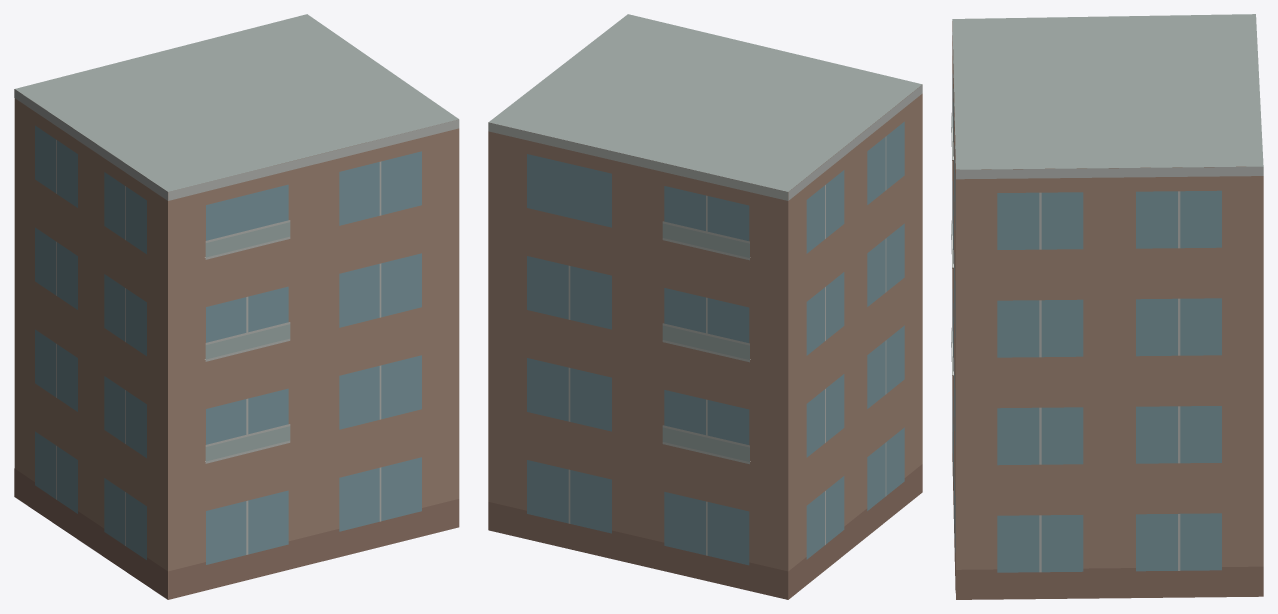
The model's file is survey-upis-32874576.glb.
3 renders of one model, left to right at view 1: azimuth 30°, elevation 25°; view 2: azimuth 150°, elevation 25°; view 3: azimuth 270°, elevation 25°, orthographic. The views are drawn at different scales.
Visible parts, largest first — view 1: survey-upis-32874576.tmp; view 2: survey-upis-32874576.tmp; view 3: survey-upis-32874576.tmp.
Part boxes in pixels (left/top/right/bottom): survey-upis-32874576.tmp: left=14, top=14, right=459, bottom=599; survey-upis-32874576.tmp: left=488, top=14, right=922, bottom=599; survey-upis-32874576.tmp: left=951, top=14, right=1263, bottom=599.
Bounding box in the file's own units: 8.55 × 11 × 7.25.
